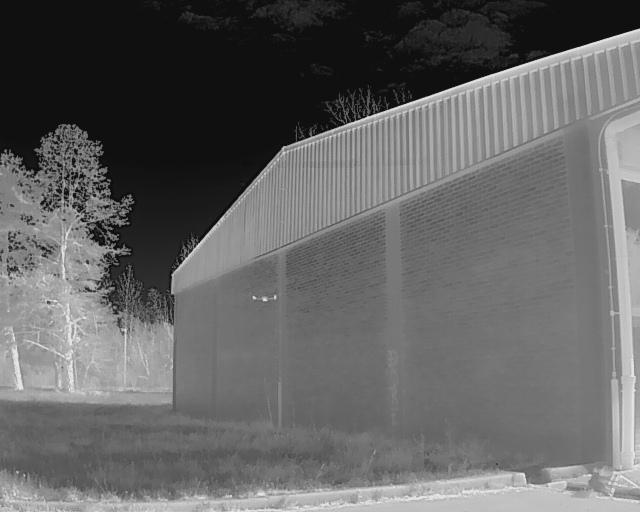drone: (248, 288, 284, 312)
